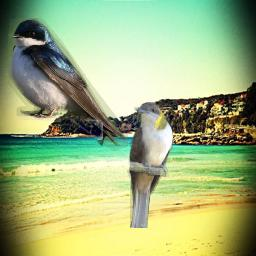Cuckoo: (127, 102, 173, 228)
Swallow: (8, 18, 128, 153)
